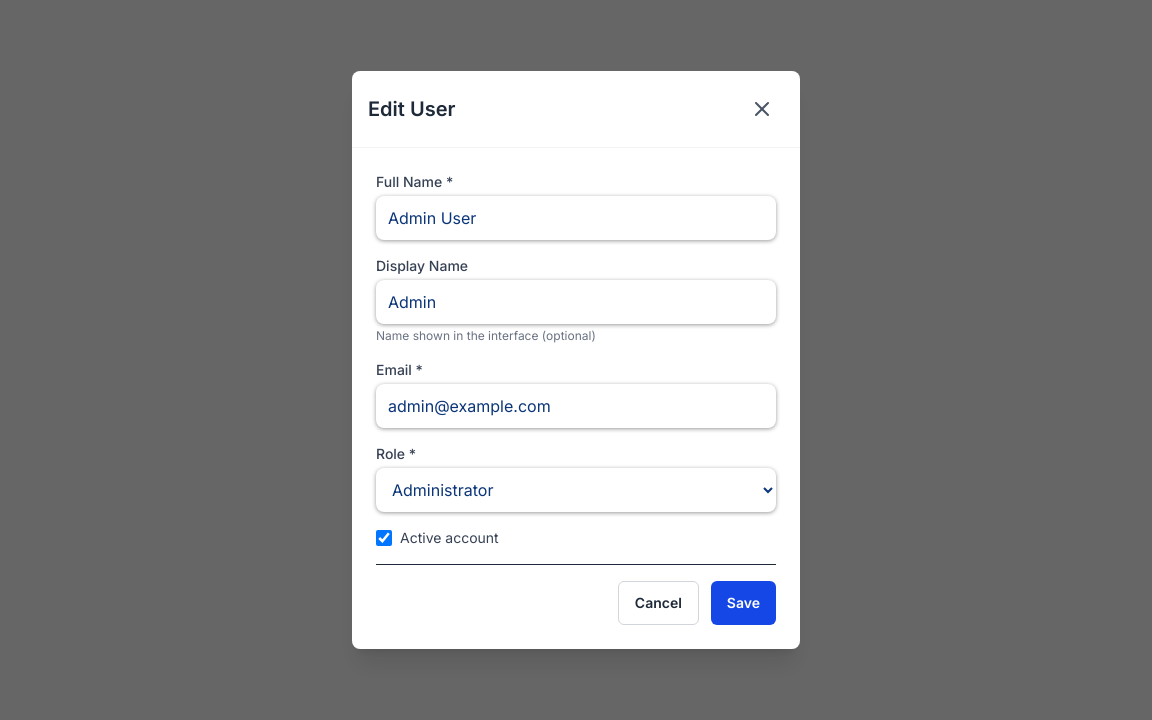
UserForm › Edit Mode › Last Admin Protection › should prevent changing last admin to staff role
Select "Staff" in the dropdown labelled "Role *" at (576, 490), box [376, 468, 776, 512]
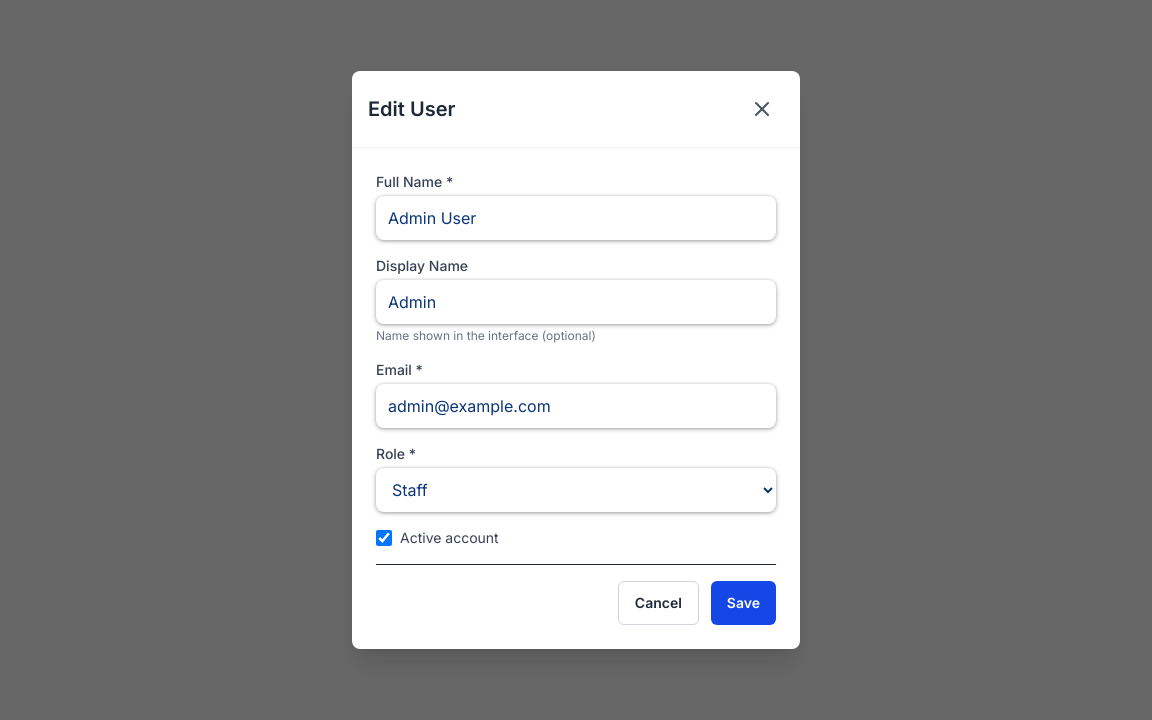
Click the button "Save" at (743, 603), box [711, 581, 776, 625]
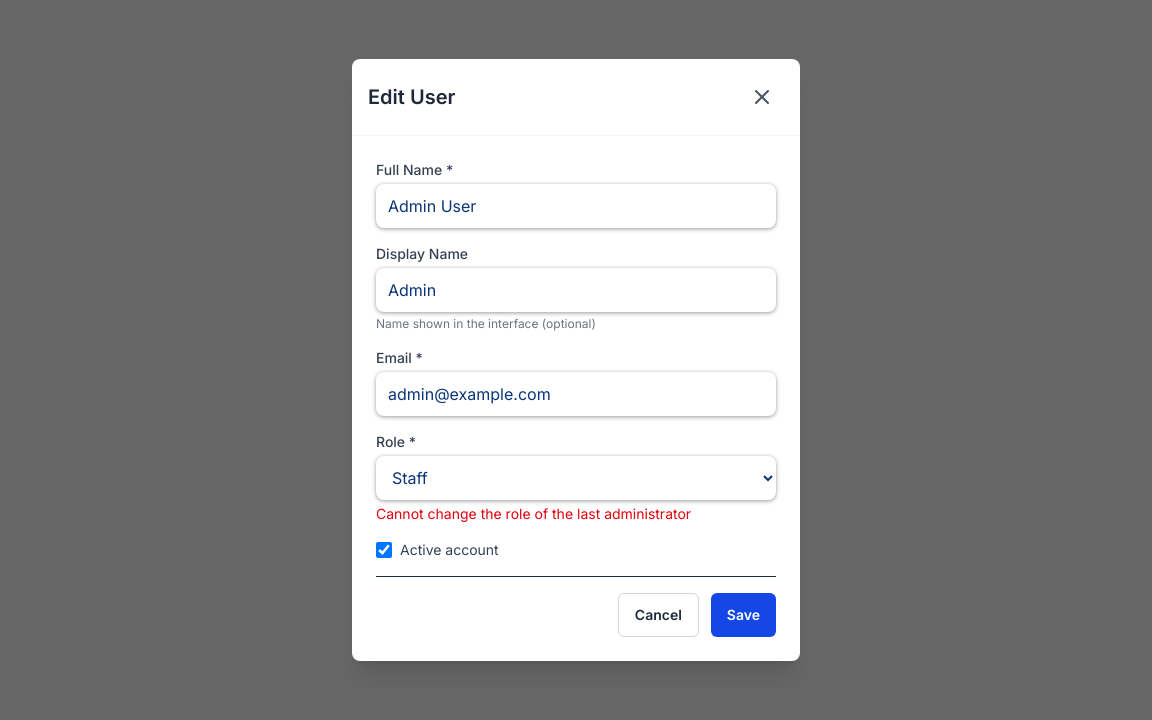
Now the text "Cannot change the role of the last administrator" is shown, box [376, 505, 691, 522]
